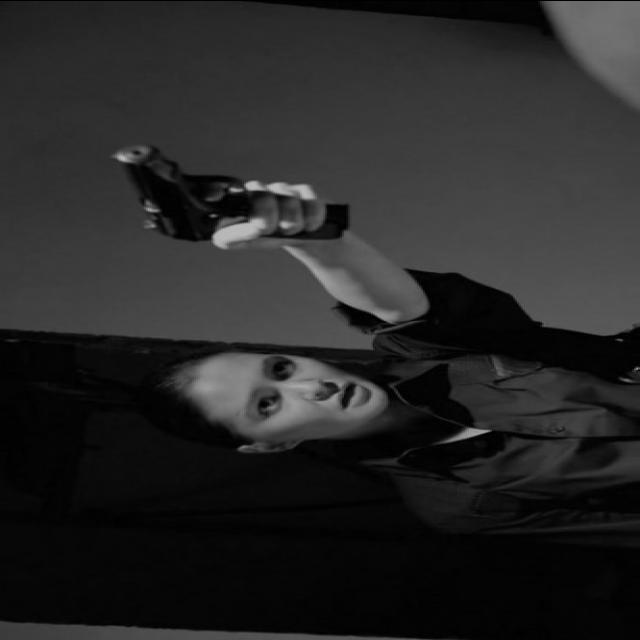weapons: (99, 137, 375, 250)
